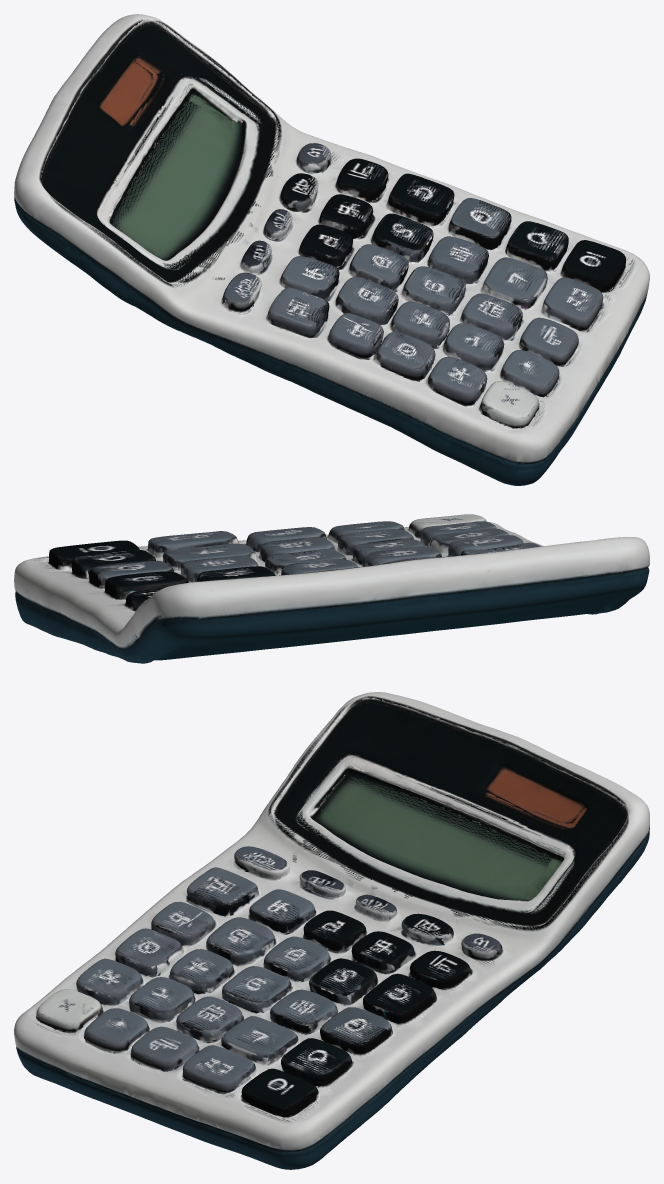
File: calculator-CU51MV73.glb
3 renders of one model, top to bottom at view 1: azimuth 30°, elevation 25°; view 2: azimuth 150°, elevation 25°; view 3: azimuth 270°, elevation 25°, orthographic. The views are drawn at different scales.
Visible parts, largest first — view 1: world; view 2: world; view 3: world.
Part boxes in pixels (x1,y1,x2,y2): world: (14,14,649,485); world: (14,514,649,663); world: (14,692,649,1169).
Size of the model in its own units: 1.93 by 0.8074 by 1.94.
Materials: 1 (1 with a texture image).
